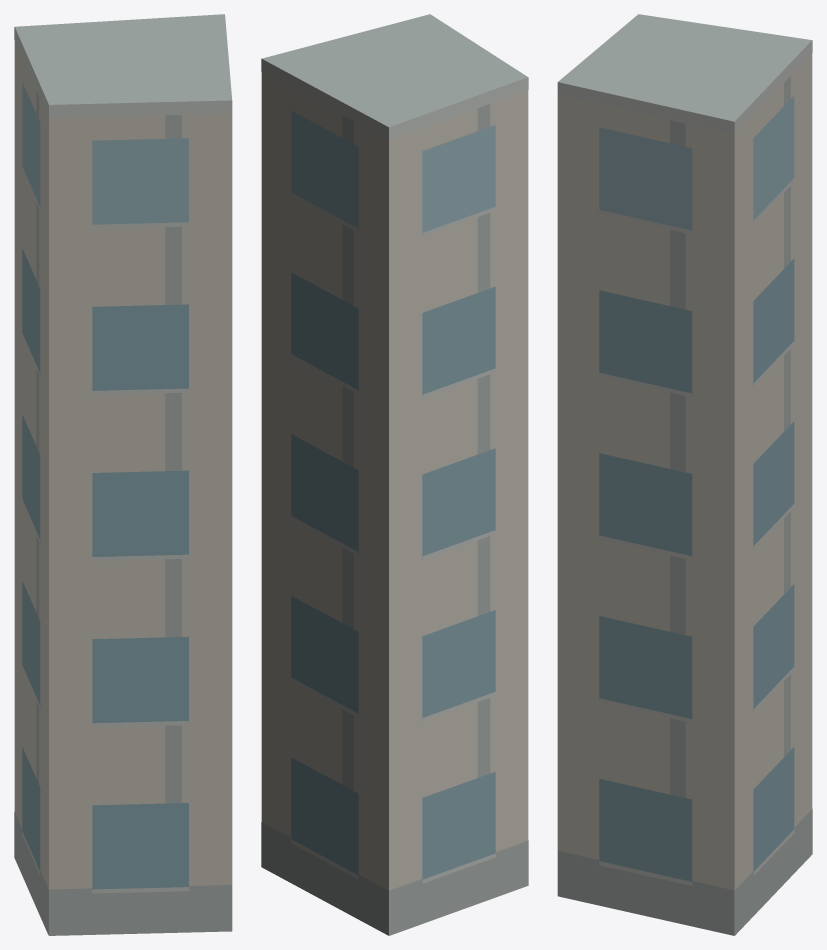
Rendered from survey-upis-32697904.glb.
3 views of the same model, side by side, from view 1: azimuth 30°, elevation 25°; view 2: azimuth 150°, elevation 25°; view 3: azimuth 270°, elevation 25° (orthographic). The views are drawn at different scales.
Parts seen in each view (by area): view 1: survey-upis-32697904.tmp; view 2: survey-upis-32697904.tmp; view 3: survey-upis-32697904.tmp.
Boxes of the visible parts, box(x1,y1,x2,y2) form: survey-upis-32697904.tmp: box(14, 14, 232, 935); survey-upis-32697904.tmp: box(261, 14, 528, 935); survey-upis-32697904.tmp: box(557, 14, 812, 935).
Bounding box in the file's own units: 4.33 × 15.25 × 4.33.
